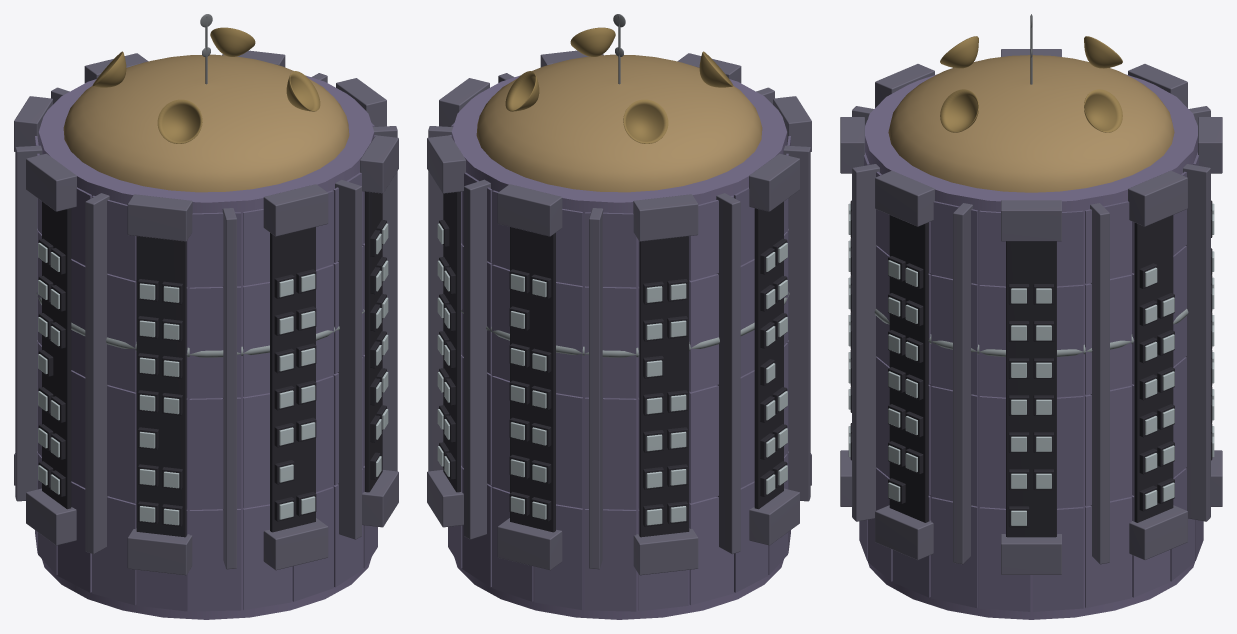
3 renders of one model, left to right at view 1: azimuth 30°, elevation 25°; view 2: azimuth 150°, elevation 25°; view 3: azimuth 270°, elevation 25°, orthographic.
Visible parts, largest first — view 1: Repair drum replaceable skins, Workshop gold roof, Cylindrical tower, Research vertical recessed service band.005, Research vertical recessed service band.006, Research raised protective fin.006, Research raised protective fin.004, Research raised protective fin.003, Research vertical recessed service band.004, Research raised protective fin.005, Research raised protective fin.007, Research vertical recessed service band.007 (+16 smaller); view 2: Repair drum replaceable skins, Workshop gold roof, Cylindrical tower, Research vertical recessed service band.003, Research vertical recessed service band.002, Research raised protective fin.001, Research raised protective fin.003, Research raised protective fin.004, Research vertical recessed service band.004, Research raised protective fin.002, Research raised protective fin, Research vertical recessed service band.001 (+16 smaller); view 3: Repair drum replaceable skins, Workshop gold roof, Cylindrical tower, Research vertical recessed service band, Research raised protective fin.001, Research raised protective fin.006, Research vertical recessed service band.007, Research vertical recessed service band.001, Research raised protective fin, Research raised protective fin.007, Research fascia end cap.001, Research fascia end cap.003 (+15 smaller).
Part boxes in pixels (left/top/right/bottom): Repair drum replaceable skins: left=35, top=123, right=377, bottom=611; Workshop gold roof: left=63, top=54, right=349, bottom=192; Cylindrical tower: left=38, top=75, right=374, bottom=619; Research vertical recessed service band.005: left=136, top=236, right=186, bottom=537; Research vertical recessed service band.006: left=270, top=227, right=315, bottom=532; Research raised protective fin.006: left=335, top=179, right=361, bottom=539; Research raised protective fin.004: left=85, top=193, right=109, bottom=554; Research raised protective fin.003: left=15, top=145, right=42, bottom=501; Research vertical recessed service band.004: left=42, top=201, right=71, bottom=509; Research raised protective fin.005: left=222, top=208, right=236, bottom=569; Research raised protective fin.007: left=373, top=126, right=397, bottom=471; Research vertical recessed service band.007: left=365, top=191, right=382, bottom=492; Repair drum replaceable skins: left=448, top=123, right=790, bottom=611; Workshop gold roof: left=476, top=54, right=762, bottom=192; Cylindrical tower: left=451, top=75, right=787, bottom=619; Research vertical recessed service band.003: left=639, top=236, right=689, bottom=537; Research vertical recessed service band.002: left=510, top=227, right=555, bottom=532; Research raised protective fin.001: left=464, top=179, right=490, bottom=539; Research raised protective fin.003: left=716, top=193, right=740, bottom=554; Research raised protective fin.004: left=783, top=145, right=810, bottom=501; Research vertical recessed service band.004: left=754, top=201, right=783, bottom=509; Research raised protective fin.002: left=589, top=208, right=603, bottom=569; Research raised protective fin: left=428, top=126, right=452, bottom=471; Research vertical recessed service band.001: left=443, top=191, right=460, bottom=492; Repair drum replaceable skins: left=859, top=120, right=1203, bottom=611; Workshop gold roof: left=888, top=55, right=1174, bottom=192; Cylindrical tower: left=865, top=74, right=1197, bottom=619; Research vertical recessed service band: left=1006, top=241, right=1056, bottom=537; Research raised protective fin.001: left=1183, top=164, right=1210, bottom=521; Research raised protective fin.006: left=852, top=164, right=879, bottom=521; Research vertical recessed service band.007: left=889, top=215, right=928, bottom=522; Research vertical recessed service band.001: left=1134, top=215, right=1173, bottom=522; Research raised protective fin: left=1090, top=203, right=1109, bottom=564; Research raised protective fin.007: left=953, top=203, right=972, bottom=564; Research fascia end cap.001: left=1001, top=200, right=1061, bottom=241; Research fascia end cap.003: left=1128, top=170, right=1187, bottom=226.
Bounding box in the file's own units: 1.87 × 2.88 × 1.87.
